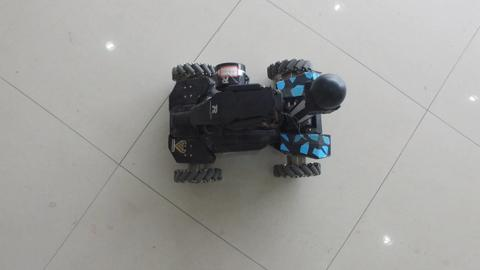chariot: (150, 49, 340, 201)
